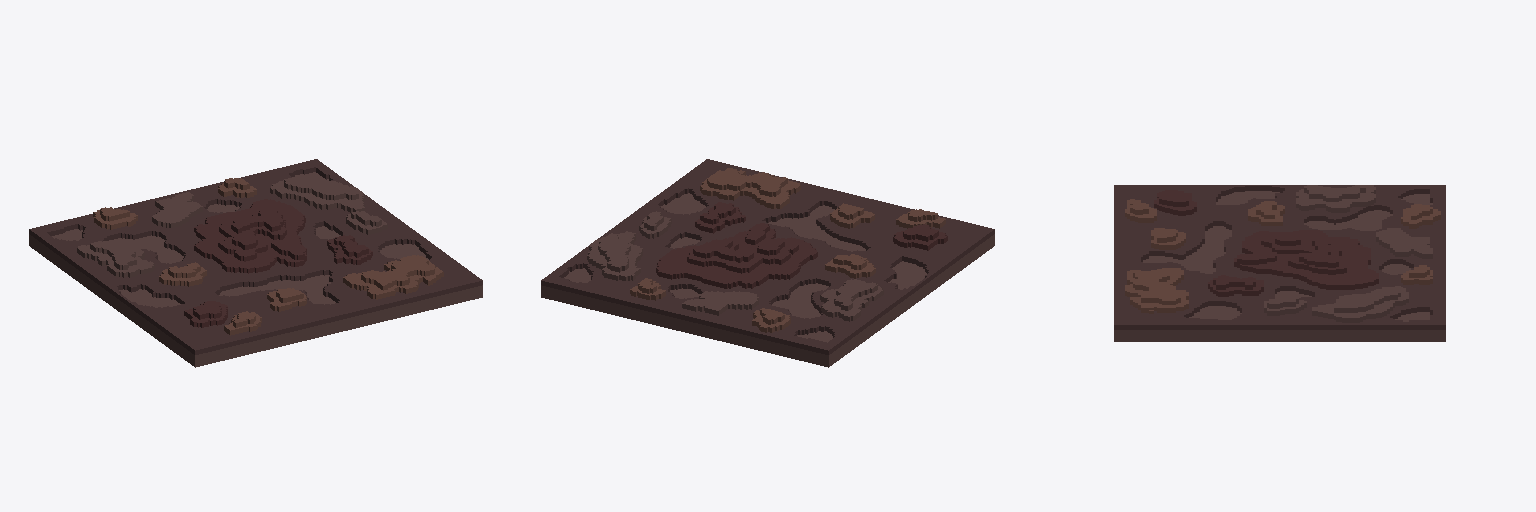
3 renders of one model, left to right at view 1: azimuth 30°, elevation 25°; view 2: azimuth 150°, elevation 25°; view 3: azimuth 270°, elevation 25°, orthographic.
Parts seen in each view (by area): view 1: object 1; view 2: object 1; view 3: object 1.
Part boxes in pixels (left/top/right/bottom): object 1: left=29, top=159, right=482, bottom=367; object 1: left=541, top=159, right=994, bottom=367; object 1: left=1114, top=185, right=1445, bottom=341.
Size of the model in its own units: 12.4 by 1.3 by 12.4.
Materials: 1 (1 with a texture image).